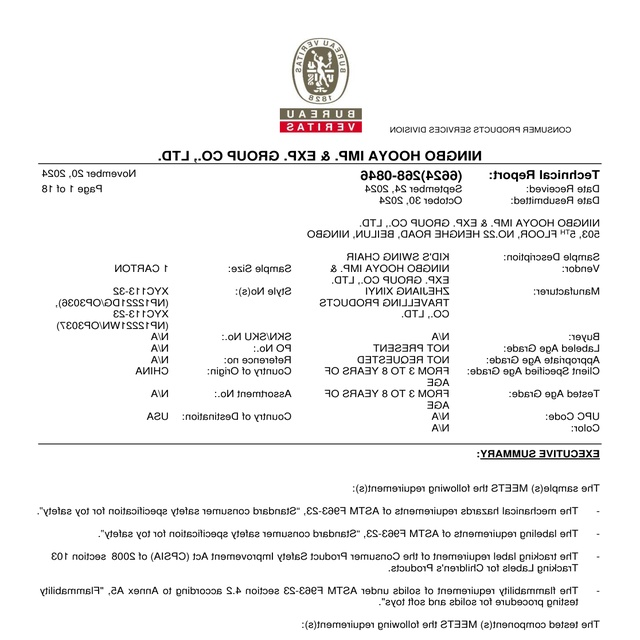bureau_veritas: (274, 38, 366, 138)
